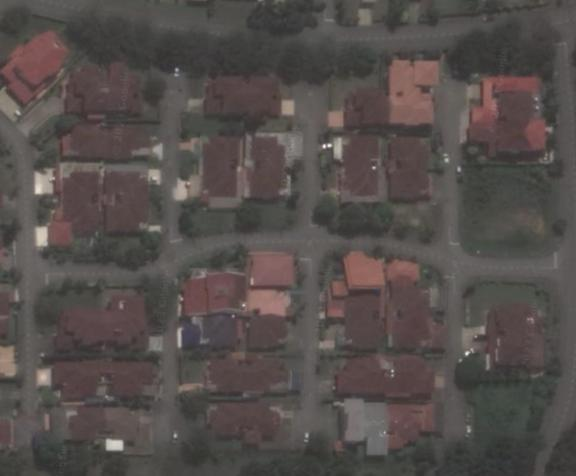building: (0, 25, 72, 129), (60, 53, 162, 122), (45, 159, 105, 251), (319, 244, 387, 324), (482, 299, 551, 376), (203, 348, 307, 398), (185, 127, 246, 210), (243, 128, 309, 202), (54, 121, 167, 164), (199, 73, 285, 127), (326, 132, 387, 207), (464, 72, 543, 125), (204, 398, 285, 449), (390, 55, 443, 128), (462, 115, 551, 158), (387, 132, 439, 205), (385, 254, 449, 313), (248, 245, 301, 315), (104, 164, 152, 239), (173, 267, 246, 316), (383, 307, 450, 355), (339, 394, 387, 460), (102, 290, 152, 353), (383, 400, 442, 453), (40, 351, 100, 403), (325, 84, 391, 130), (48, 302, 105, 352), (102, 354, 160, 402), (104, 405, 158, 455), (173, 312, 242, 351), (383, 354, 439, 400), (332, 352, 386, 398), (242, 314, 295, 351), (65, 402, 105, 451), (332, 314, 382, 351)
